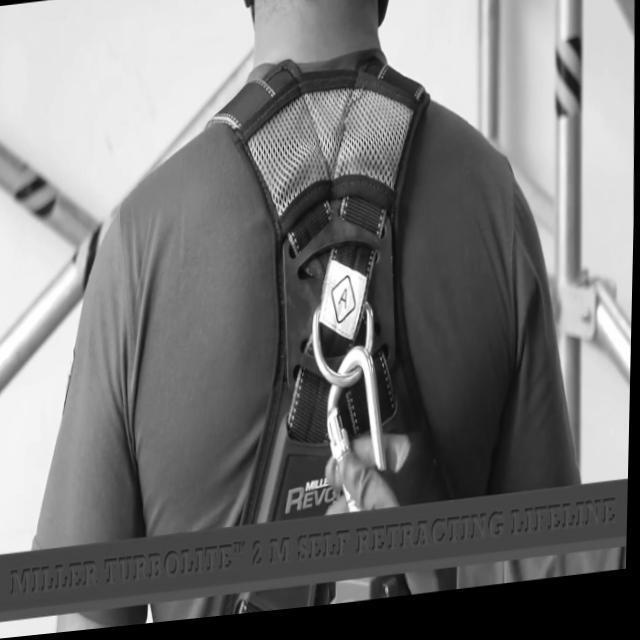Arnes_seguridad: (205, 52, 433, 611)
